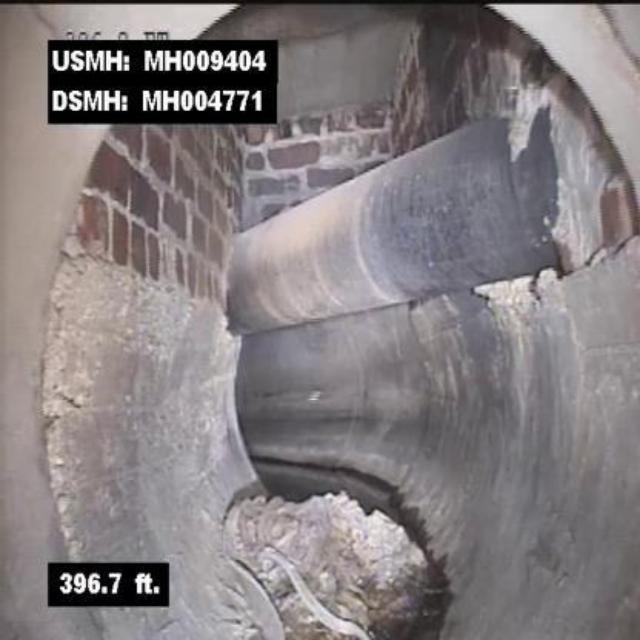Debris: (218, 489, 440, 638)
Utility intrusion: (220, 78, 594, 338)
